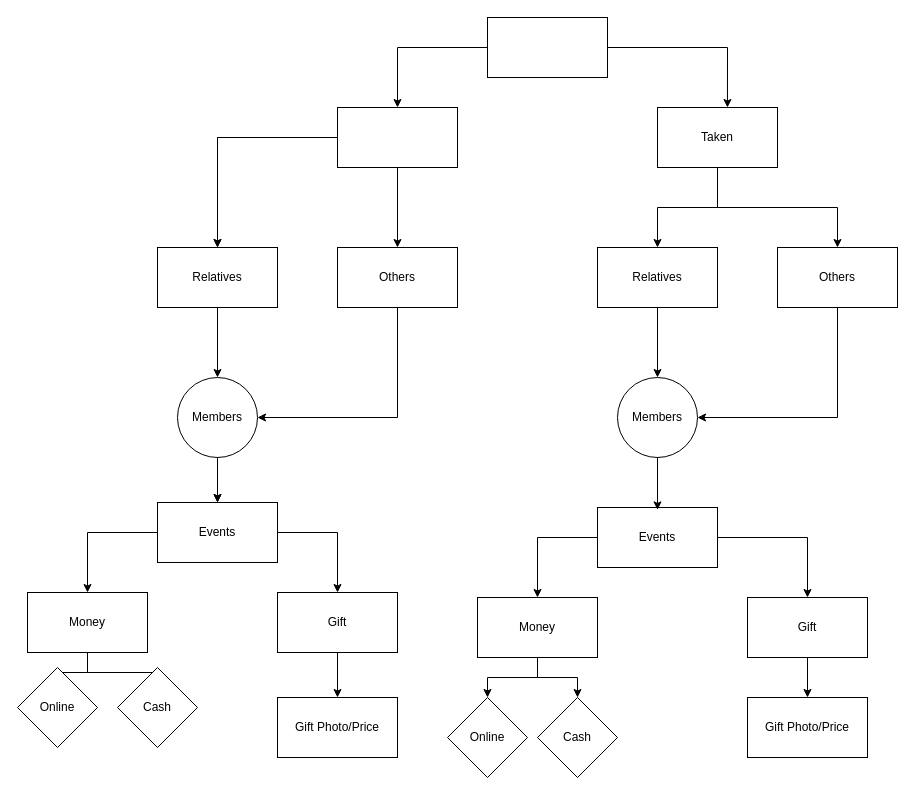
Image size: 915x795. Some labels were removed from this diagram. The shapes that lost their labels are listed below. From the top down, each one's centre as x and y in pixels, then its label:
At [547,47]: "Me".
At [397,137]: "Given".
